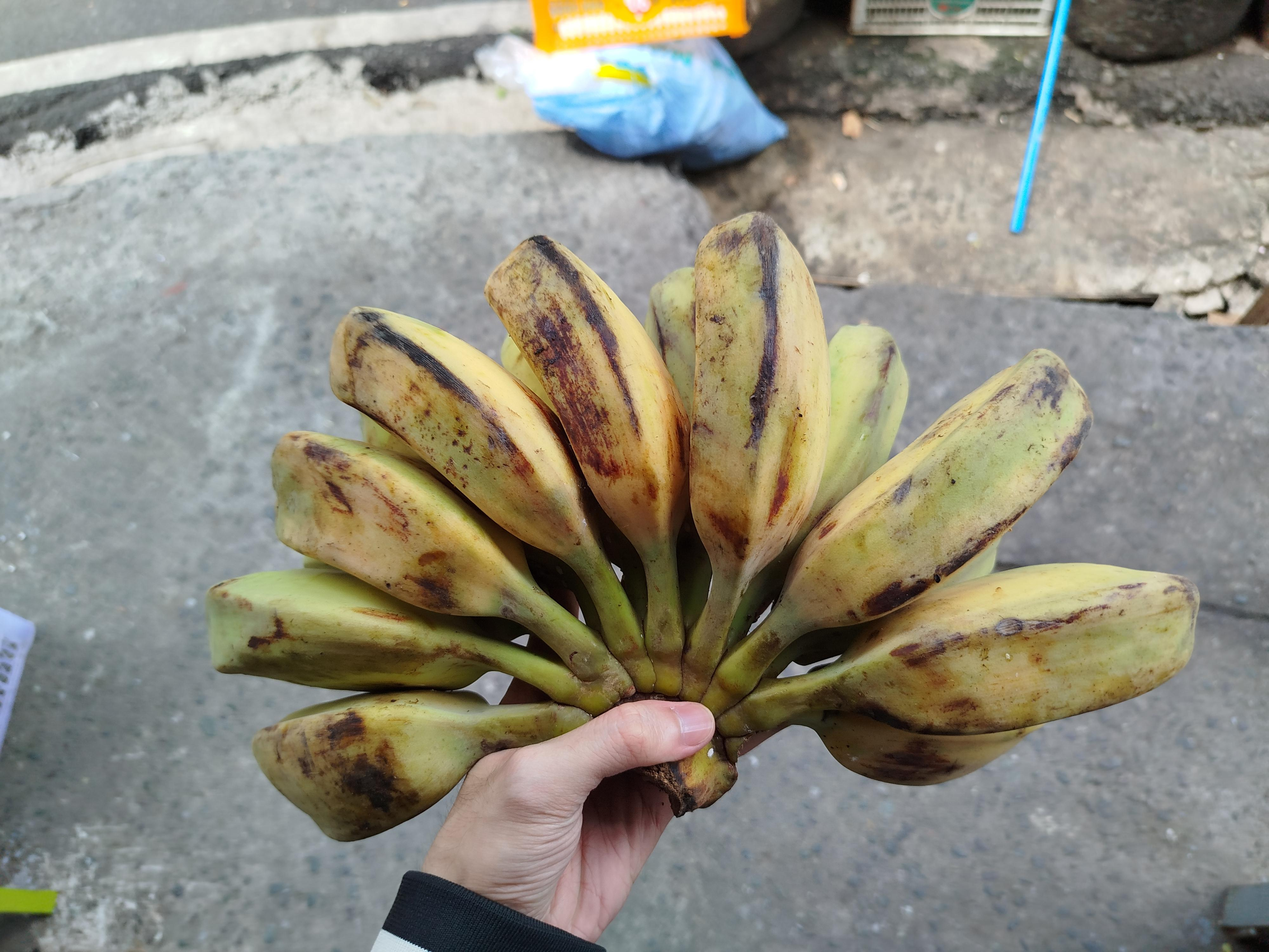underripe: (206, 209, 1202, 841)
